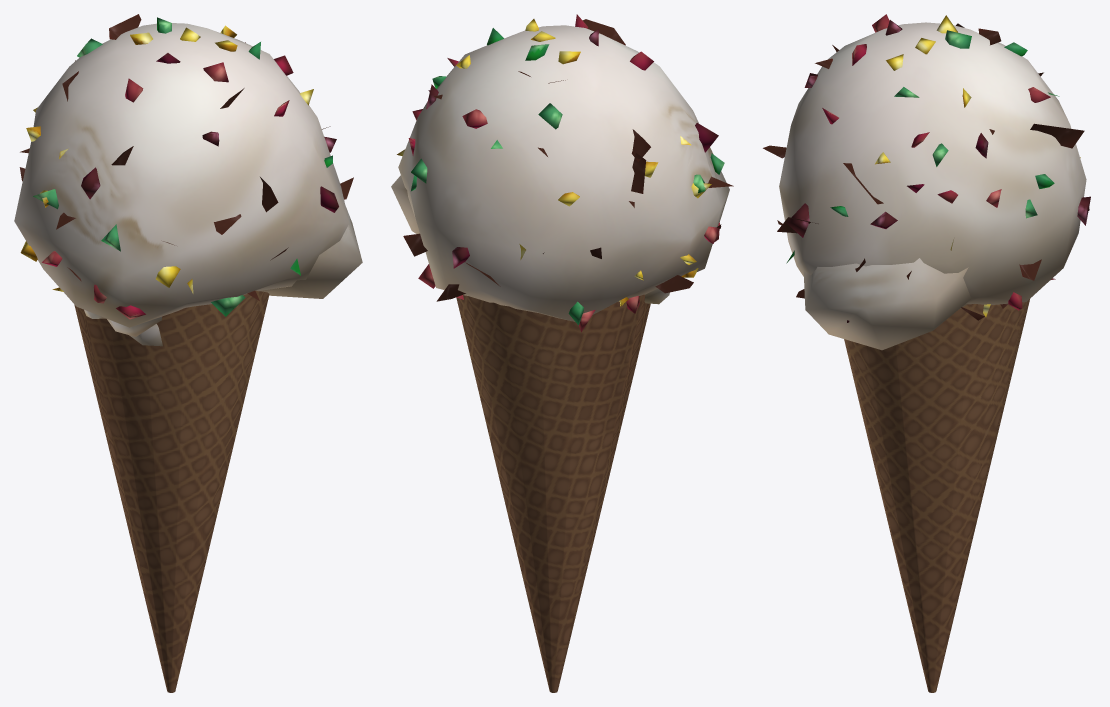
File: icecreamvanillawithtop.fbx
The picture shows the model from 3 angles, left to right: view 1: azimuth 30°, elevation 25°; view 2: azimuth 150°, elevation 25°; view 3: azimuth 270°, elevation 25°; orthographic projection.
Parts seen in each view (by area): view 1: icecreamvanillawithtop; view 2: icecreamvanillawithtop; view 3: icecreamvanillawithtop.
Part boxes in pixels (x1,y1,x2,y2): icecreamvanillawithtop: (14, 14, 362, 692); icecreamvanillawithtop: (391, 14, 733, 692); icecreamvanillawithtop: (763, 14, 1090, 692).
Size of the model in its own units: 24.97 by 50.71 by 23.22.
